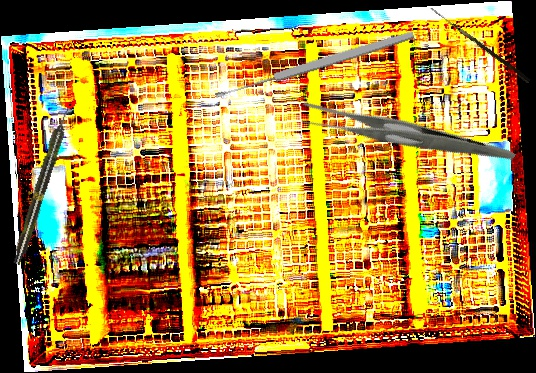Dressing Forceps: (295, 50, 516, 223)
Handpiece: (10, 106, 74, 267)
Hook Surgical: (427, 7, 532, 84)
Surgical Spoon: (213, 29, 416, 101)
